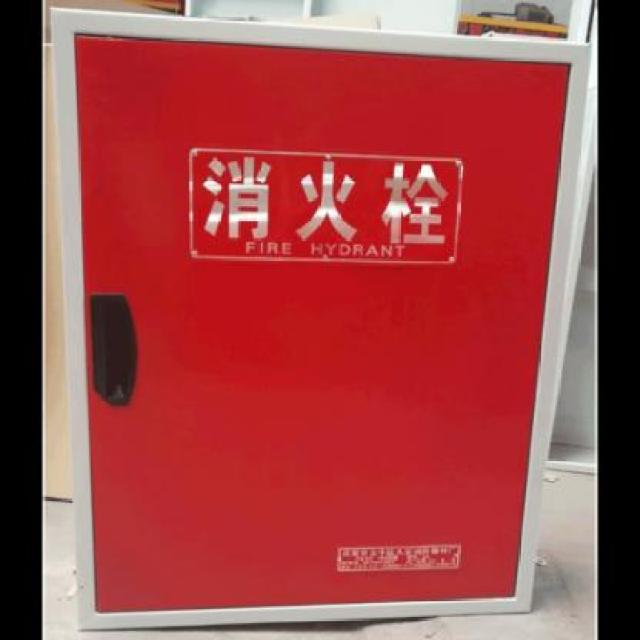firehydrant: (46, 5, 597, 636)
